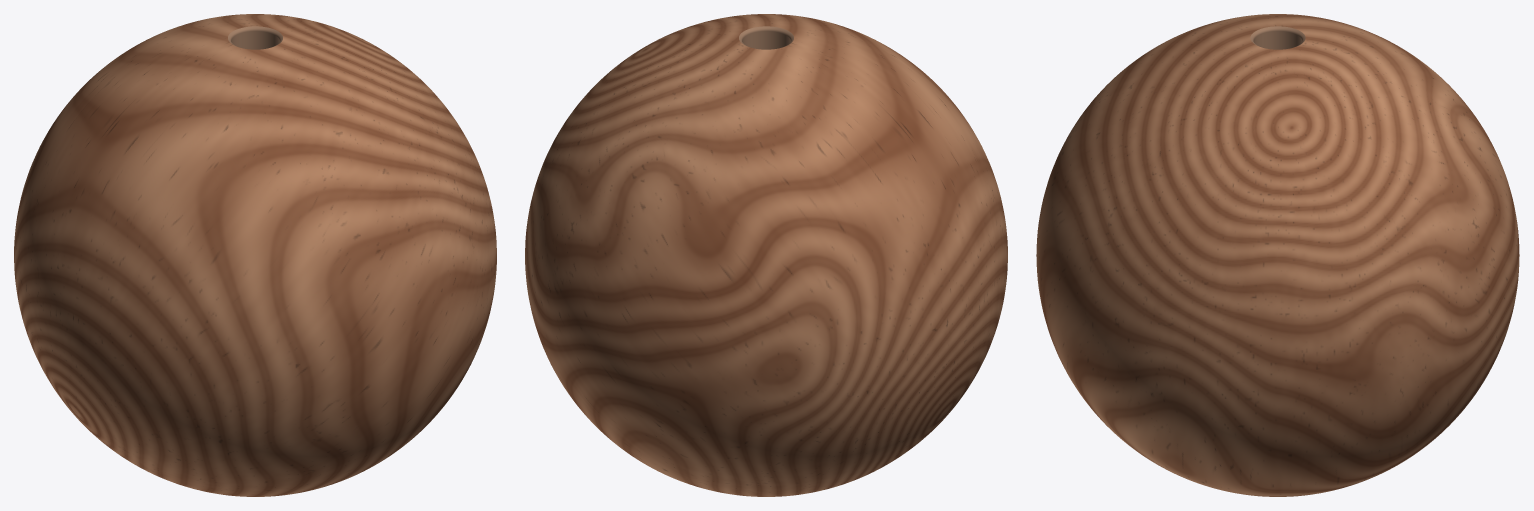
The model's file is wood-yew-10mm.glb.
3 renders of one model, left to right at view 1: azimuth 30°, elevation 25°; view 2: azimuth 150°, elevation 25°; view 3: azimuth 270°, elevation 25°, orthographic.
Parts seen in each view (by area): view 1: yew; view 2: yew; view 3: yew.
Boxes of the visible parts, left/top/right/bottom form: yew: left=14, top=14, right=496, bottom=496; yew: left=525, top=14, right=1007, bottom=496; yew: left=1036, top=14, right=1519, bottom=496.
Bounding box in the file's own units: 0.01 × 0.00993 × 0.01.
2 materials, 1 textured.
